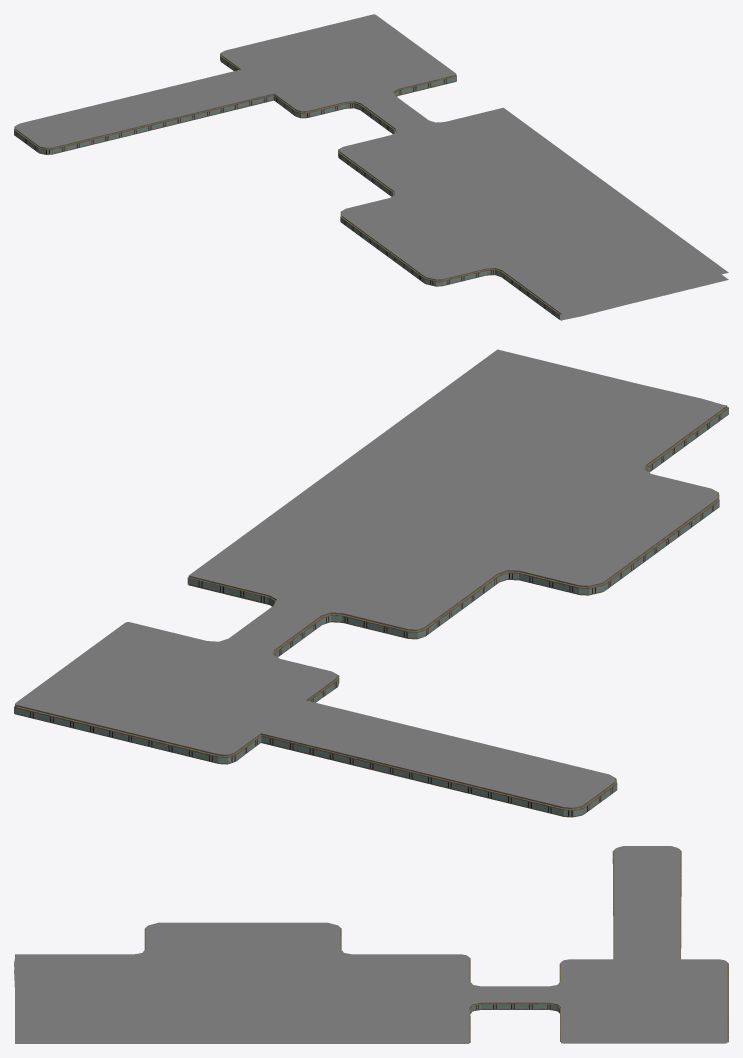
File: platform 2.obj
3 views of the same model, one above another, from view 1: azimuth 30°, elevation 25°; view 2: azimuth 150°, elevation 25°; view 3: azimuth 270°, elevation 25° (orthographic). The views are drawn at different scales.
Parts seen in each view (by area): view 1: surface group1, group1 lines; view 2: surface group1, group1 lines; view 3: surface group1, group1 lines.
Part boxes in pixels (bbox=[...]): surface group1: bbox=[15, 14, 728, 320]; group1 lines: bbox=[14, 53, 561, 320]; surface group1: bbox=[15, 349, 726, 807]; group1 lines: bbox=[14, 406, 728, 817]; surface group1: bbox=[14, 846, 727, 1043]; group1 lines: bbox=[15, 848, 728, 1042].
Bounding box in the file's own units: 140 × 2.45 × 222.
Materials: 2 (1 with a texture image).
